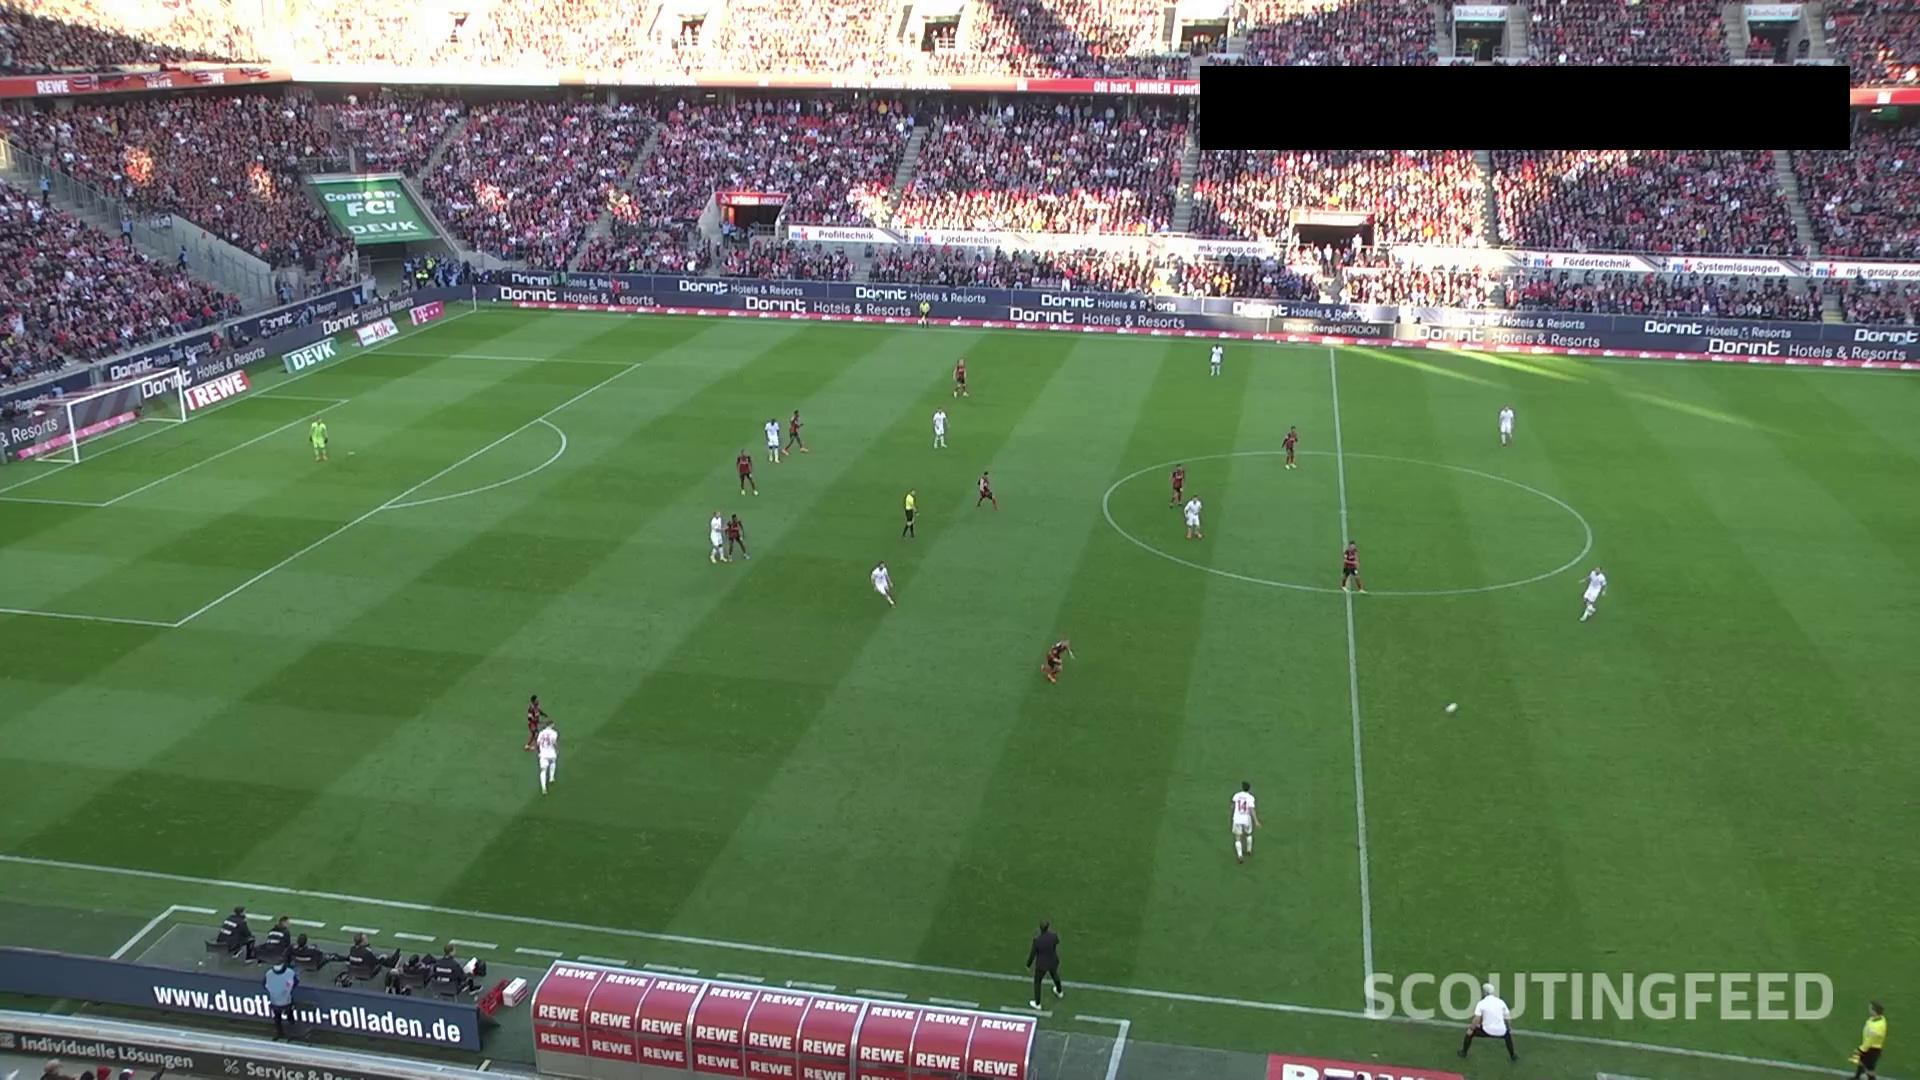Location-of-ball: (1433, 694, 1477, 732)
